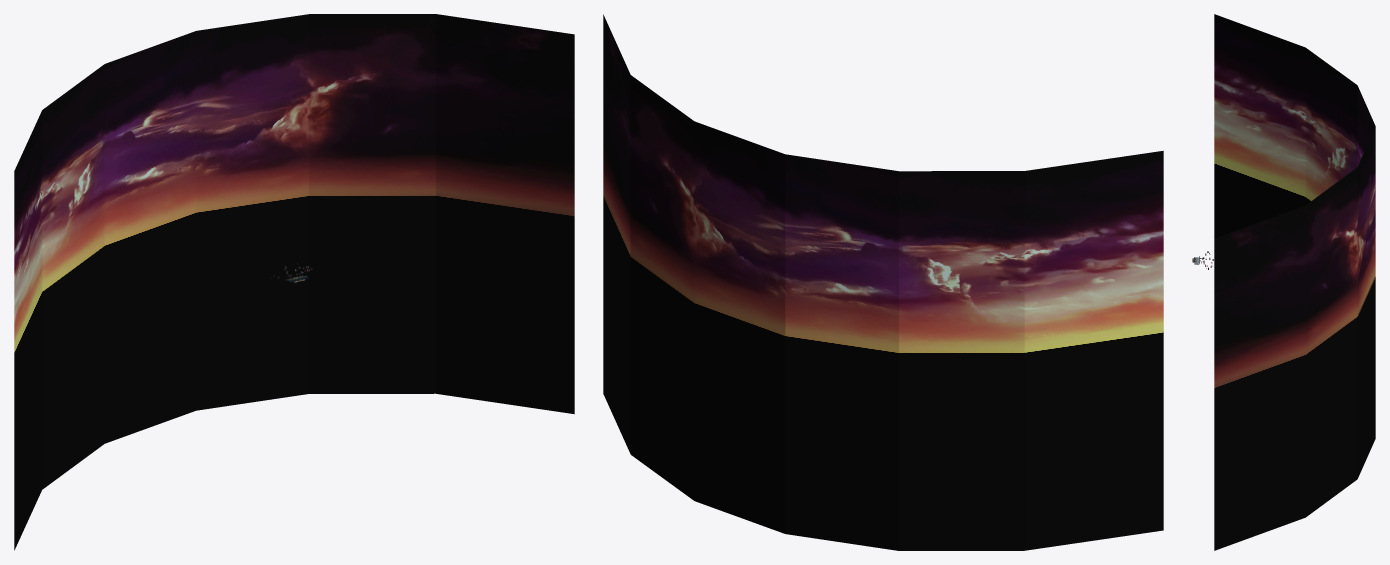
Rendered from UMK3iOSWaterfront.glb.
3 renders of one model, left to right at view 1: azimuth 30°, elevation 25°; view 2: azimuth 150°, elevation 25°; view 3: azimuth 270°, elevation 25°, orthographic. The views are drawn at different scales.
Visible parts, largest first — view 1: 0_Object12; view 2: 0_Object12; view 3: 0_Object12.
Boxes of the visible parts, left/top/right/bottom form: 0_Object12: left=14, top=14, right=574, bottom=550; 0_Object12: left=603, top=14, right=1163, bottom=550; 0_Object12: left=1214, top=14, right=1375, bottom=550.
Size of the model in its own units: 2367 by 1533 by 816.
8 materials, 8 textured.
